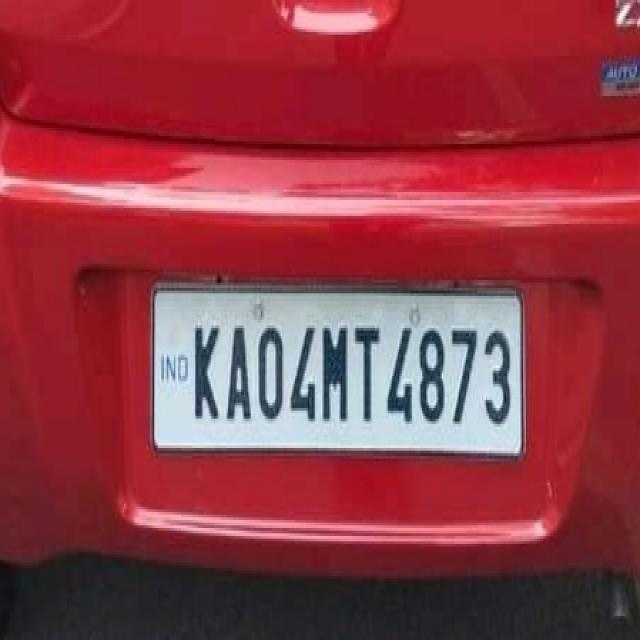0: (256, 317, 285, 419)
3: (484, 322, 514, 431)
4: (384, 317, 416, 428), (288, 319, 317, 428)
7: (450, 319, 480, 430)
8: (417, 329, 446, 430)
A: (223, 322, 253, 431)
K: (189, 319, 222, 426)
M: (317, 319, 352, 428)
T: (352, 322, 384, 424)
